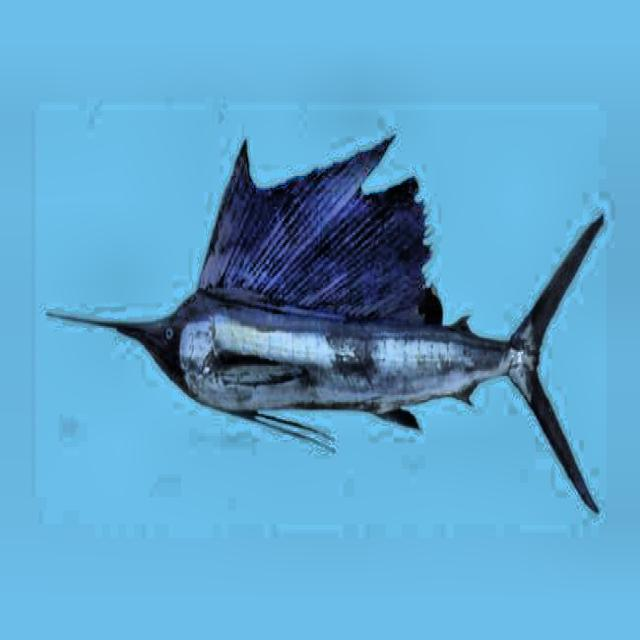fish: (46, 131, 604, 515)
